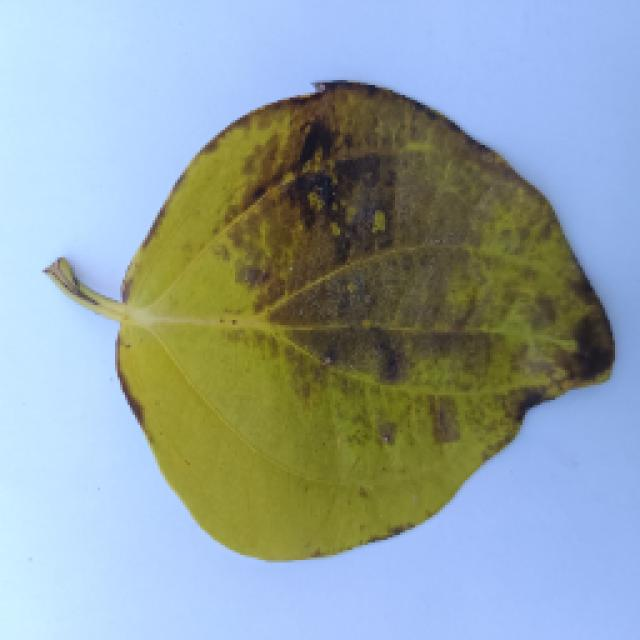slow-decline: (28, 95, 612, 575)
